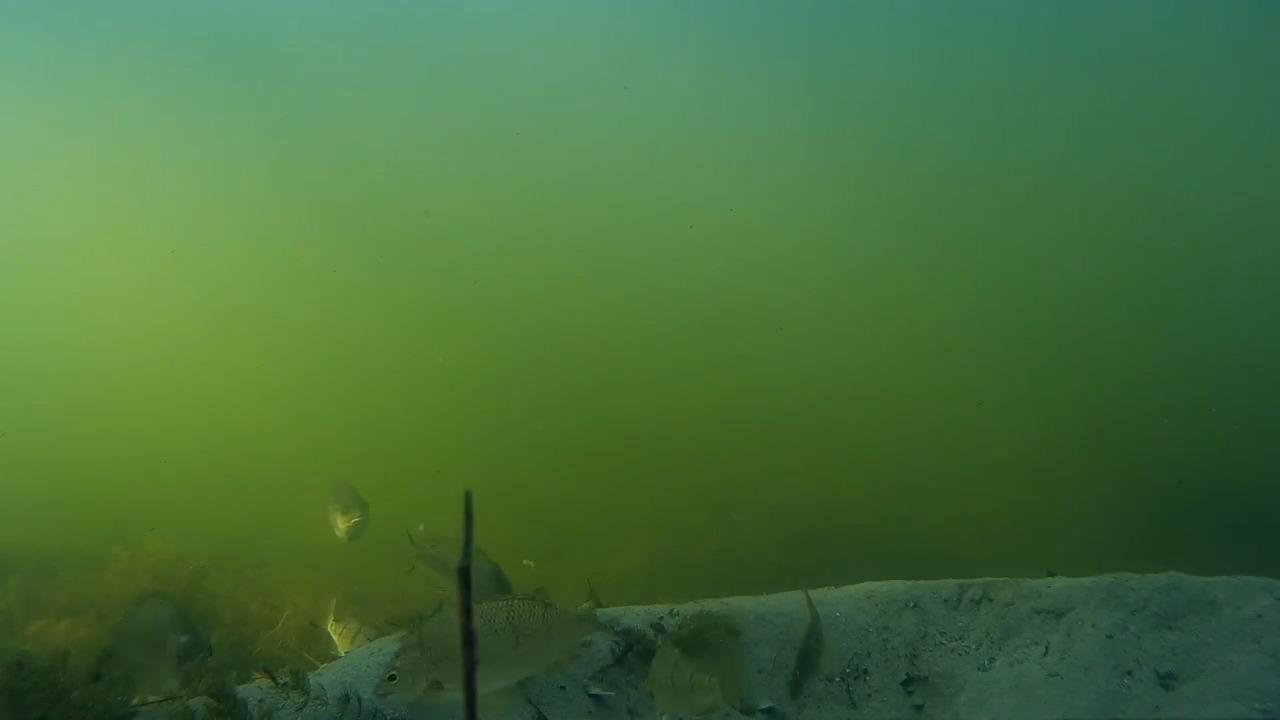Tilapia: (356, 586, 611, 720), (89, 580, 219, 706), (638, 612, 761, 720), (782, 580, 859, 718), (407, 514, 516, 598), (305, 594, 382, 666), (308, 472, 381, 546)
